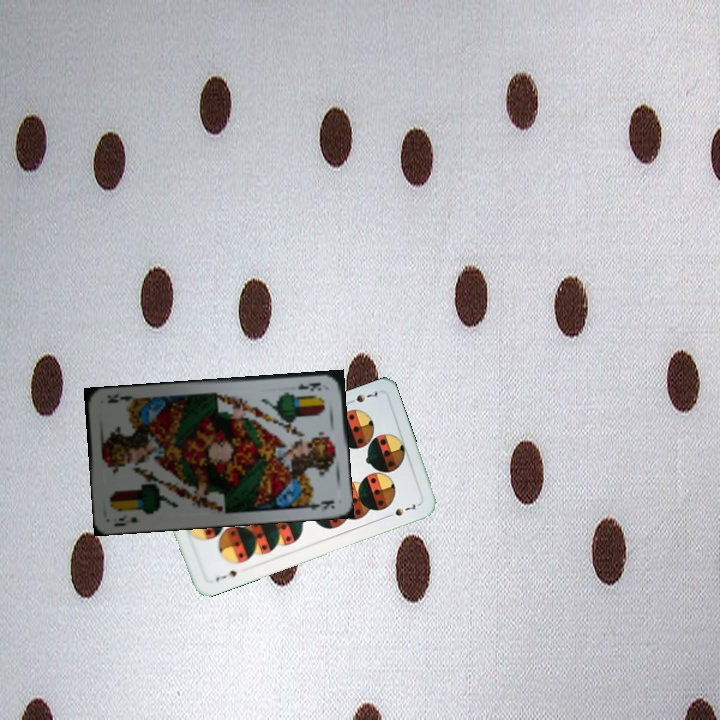EK: (110, 511, 142, 529), (293, 378, 323, 394)
S7: (342, 387, 380, 407), (211, 566, 239, 584)
